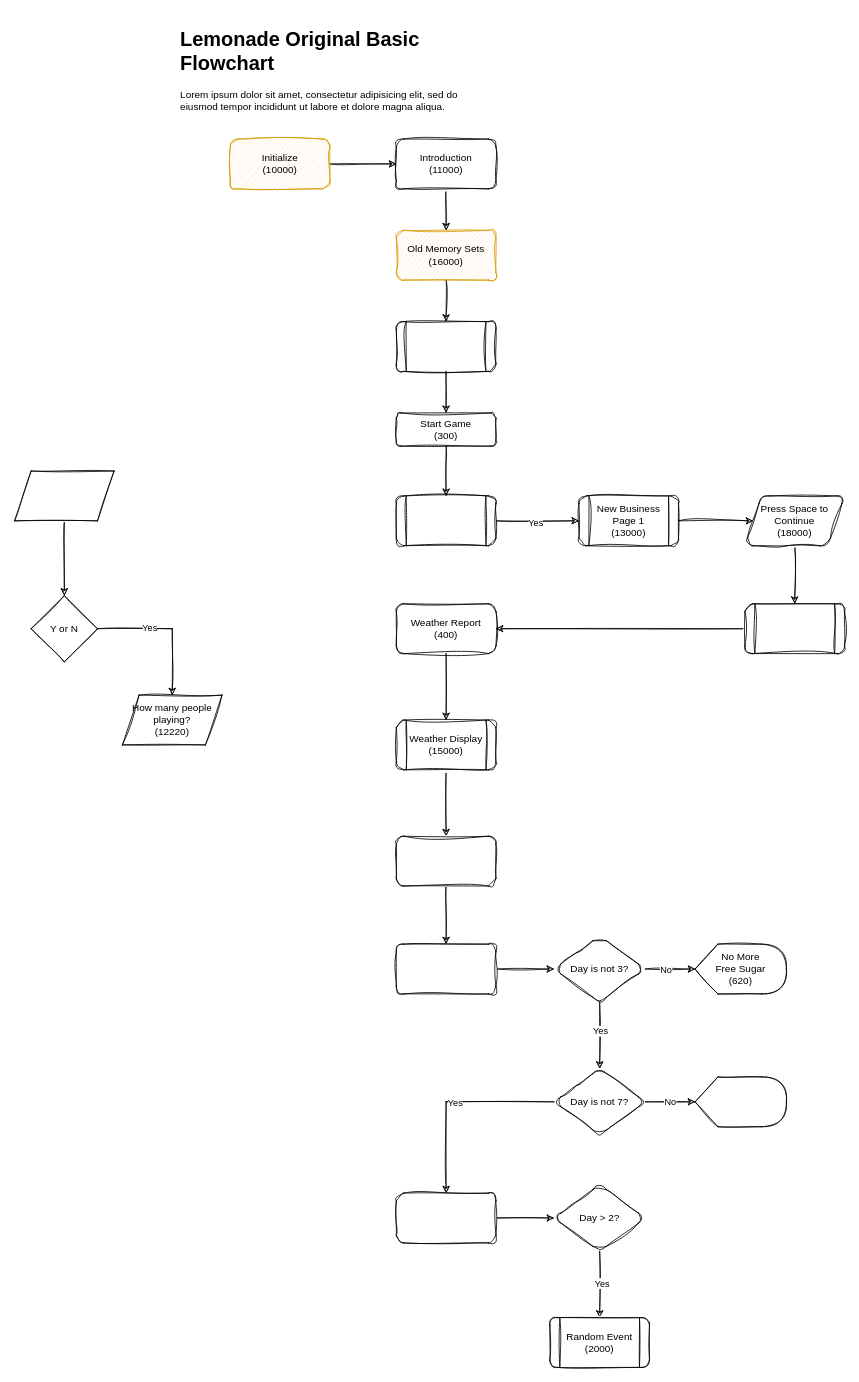
The diagram is 859 pixels wide and 1382 high, and some of its shapes have lost their labels. The shapes that lost their labels are listed below. From the top down, each one's box as (x1, y1, x2, y2) in pixels, then its label:
(395, 321, 496, 371): Value Setting Arrays Constants (135)
(14, 470, 114, 521): New Game?
(395, 495, 496, 546): Title Page (12000)
(744, 603, 845, 654): New Business Page 2 (13210)
(395, 835, 496, 886): Start of New Day (500)
(395, 943, 496, 994): Current Events (600)
(694, 1076, 786, 1127): No More Free Sugar (660)
(395, 1192, 496, 1243): Things Can Happen (700)
